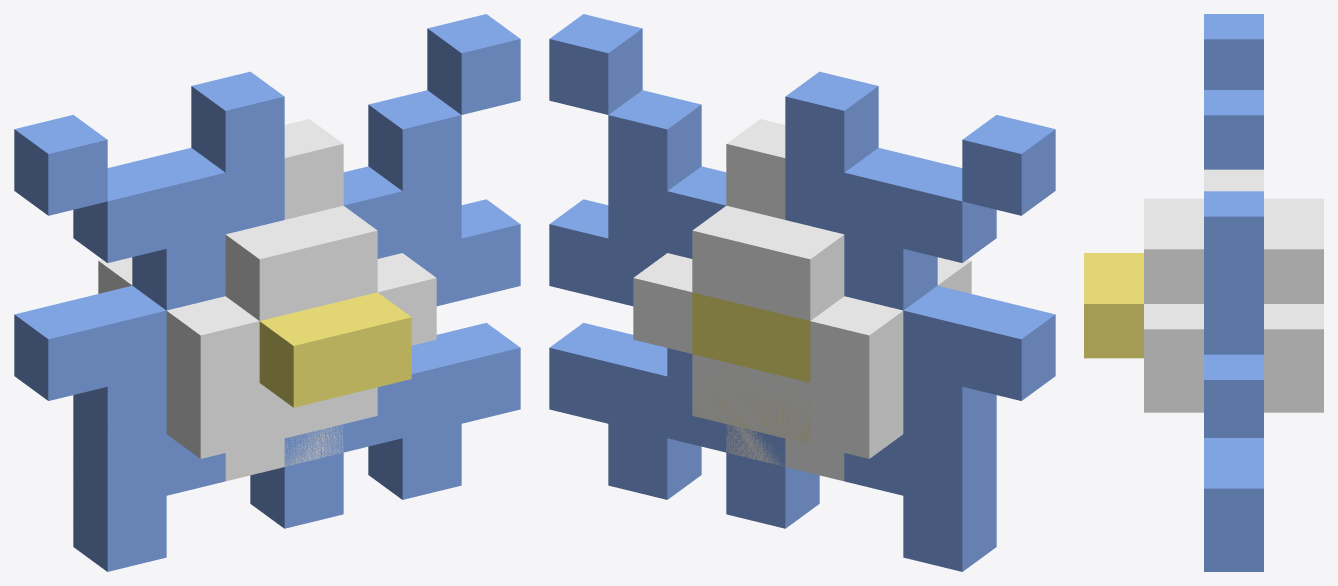
File: spark.glb
3 views of the same model, side by side, from view 1: azimuth 30°, elevation 25°; view 2: azimuth 150°, elevation 25°; view 3: azimuth 270°, elevation 25° (orthographic). The views are drawn at different scales.
Parts seen in each view (by area): view 1: f0, f1; view 2: f0, f1; view 3: f0, f1.
Part boxes in pixels (x1,y1,x2,y2): f0: [14, 71, 520, 528]; f1: [14, 14, 520, 571]; f0: [549, 71, 1055, 528]; f1: [549, 14, 1055, 571]; f0: [1084, 90, 1323, 463]; f1: [1084, 14, 1323, 571].
Bounding box in the file's own units: 0.5 × 0.4375 × 0.25.
